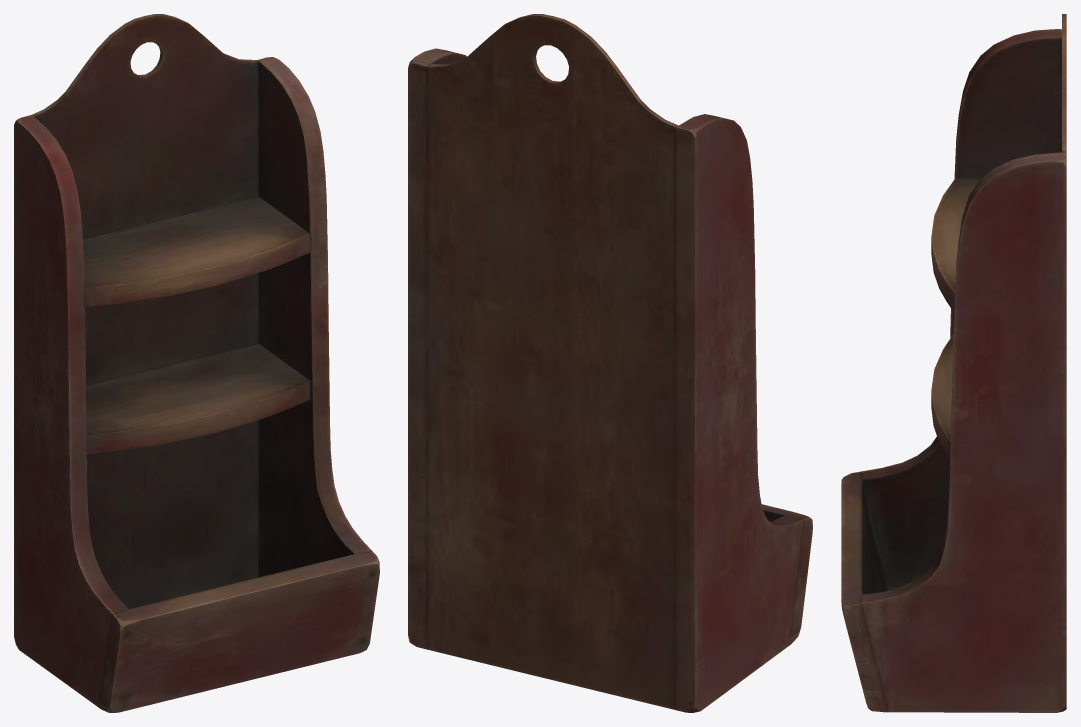
Rendered from ph-painted_wooden_shelves.glb.
The picture shows the model from 3 angles, left to right: view 1: azimuth 30°, elevation 25°; view 2: azimuth 150°, elevation 25°; view 3: azimuth 270°, elevation 25°; orthographic projection. The views are drawn at different scales.
Parts seen in each view (by area): view 1: painted_wooden_shelves; view 2: painted_wooden_shelves; view 3: painted_wooden_shelves.
Part boxes in pixels (x1=…): painted_wooden_shelves: x1=14, y1=14, x2=379, y2=712; painted_wooden_shelves: x1=408, y1=14, x2=812, y2=712; painted_wooden_shelves: x1=841, y1=14, x2=1066, y2=712.
Bounding box in the file's own units: 0.4543 × 1 × 0.3263.
1 material, 1 textured.
